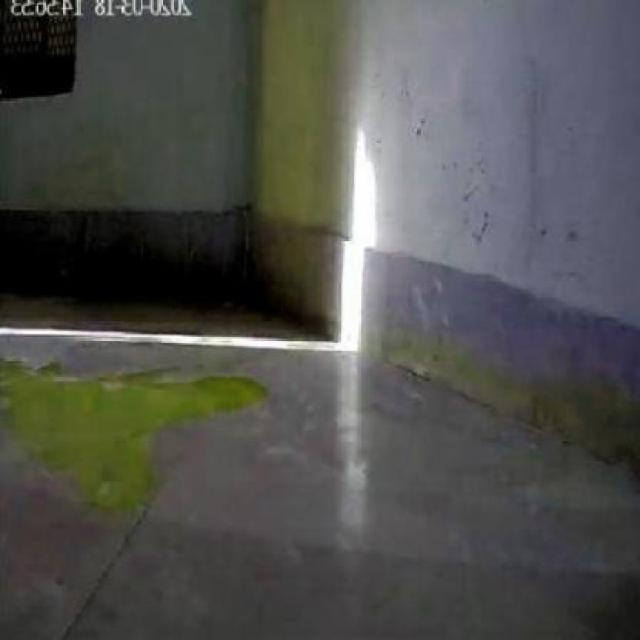spillage: (0, 363, 265, 514)
